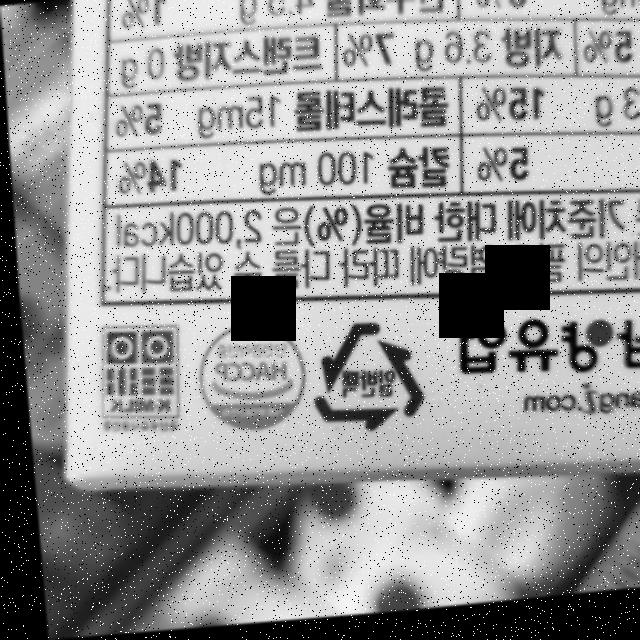NormalPack: (299, 316, 425, 442)
